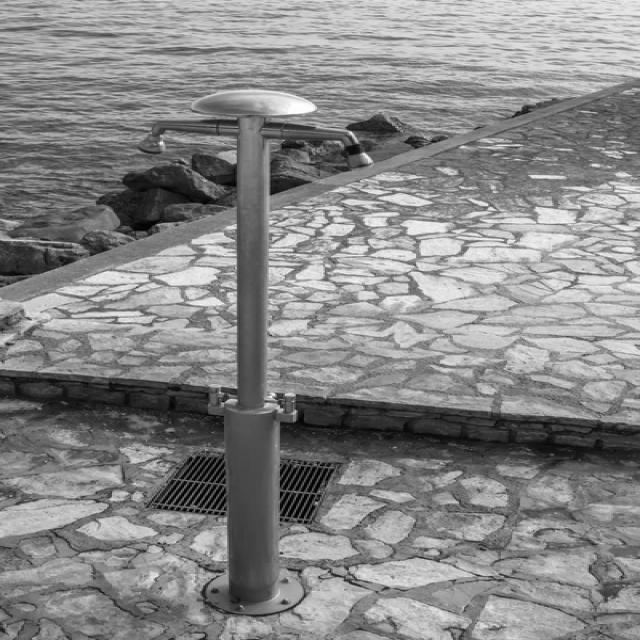Pole: (142, 90, 373, 617)
